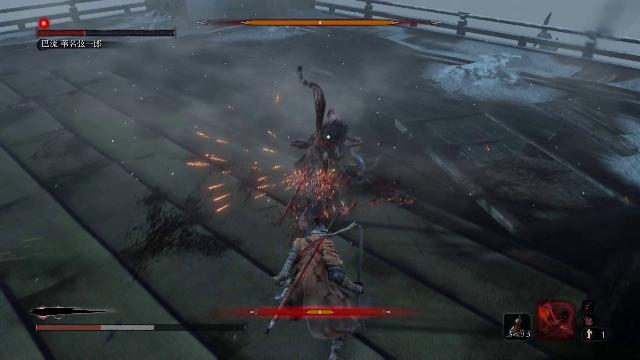sk: (272, 217, 369, 359)
